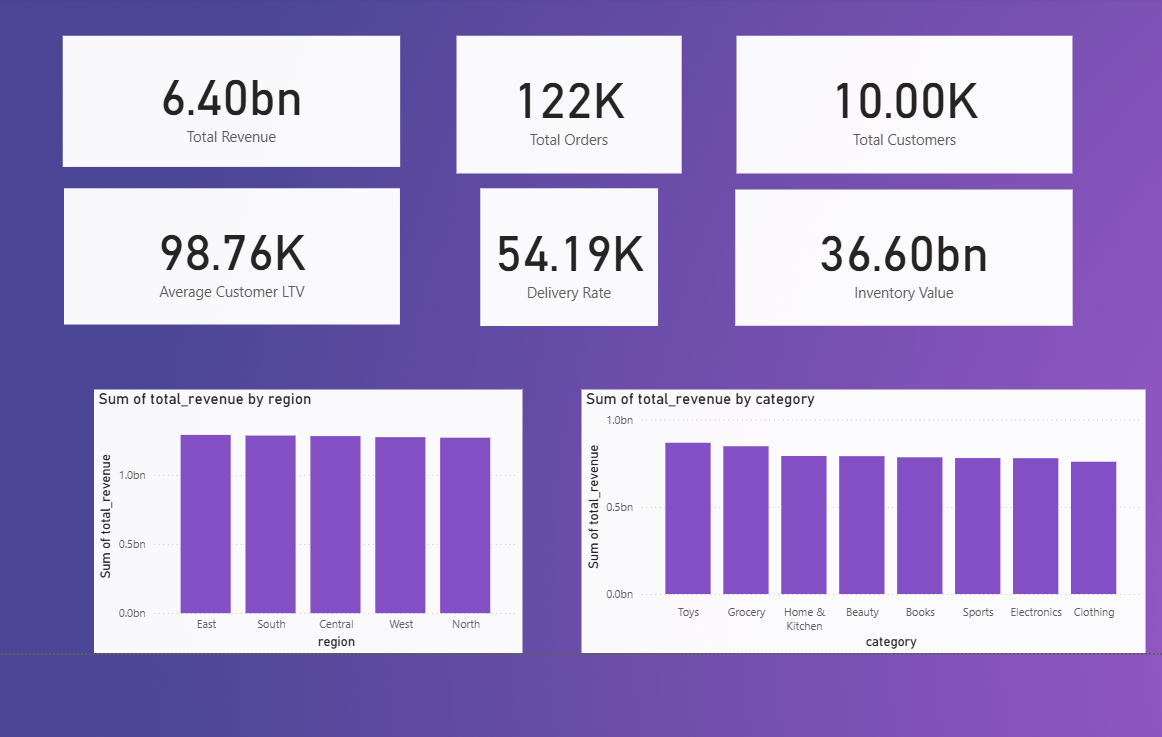

Layout of this report page (visuals, bound fields, positions):
{"tool":"powerbi","page":{"name":"Page 1","canvas":[1280,720],"ordinal":0},"visuals":[{"type":"card","fields":{"Values":["Sum(daily_revenue.total_revenue)"]},"box":[70,42.5,370.5,144.1],"z":0},{"type":"card","fields":{"Values":["Sum(daily_revenue.order_count)"]},"box":[502.2,42.5,247,150.9],"z":1000},{"type":"card","fields":{"Values":["Count(customer_ltv.customer_id)"]},"box":[809.6,42.5,369.1,150.9],"z":2000},{"type":"card","fields":{"Values":["Avg(customer_ltv.lifetime_spend)"]},"box":[71.4,209.9,369.1,149.6],"z":3000},{"type":"card","fields":{"Values":["Sum(fulfillment_kpi.delivery_rate_pct)"]},"box":[528.3,209.9,194.9,150.9],"z":4000},{"type":"card","fields":{"Values":["Sum(inventory_health.inventory_value)"]},"box":[808.2,211.3,370.5,149.6],"z":5000},{"type":"clusteredColumnChart","fields":{"Category":["daily_revenue.region"],"Y":["Sum(daily_revenue.total_revenue)"]},"box":[104.3,430.9,470.7,289.5],"z":6000},{"type":"clusteredColumnChart","fields":{"Category":["daily_revenue.category"],"Y":["Sum(daily_revenue.total_revenue)"]},"box":[639.5,430.9,618.9,289.5],"z":7000}]}

Visuals, with their boxes in screenshot pixels (x1, y1, x2, y2):
card - Sum(daily_revenue.total_revenue): 69/38/400/167
card - Sum(daily_revenue.order_count): 456/38/677/173
card - Count(customer_ltv.customer_id): 731/38/1061/173
card - Avg(customer_ltv.lifetime_spend): 70/188/400/322
card - Sum(fulfillment_kpi.delivery_rate_pct): 479/188/654/323
card - Sum(inventory_health.inventory_value): 730/189/1061/323
clusteredColumnChart - daily_revenue.region x Sum(daily_revenue.total_revenue): 99/386/521/645
clusteredColumnChart - daily_revenue.category x Sum(daily_revenue.total_revenue): 579/386/1133/645
